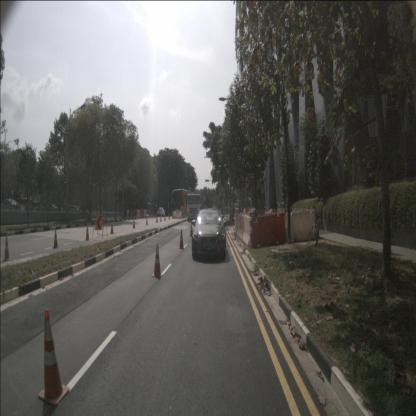movable_object-barrier: (250, 212, 286, 249), (284, 210, 317, 242), (242, 214, 254, 247), (237, 213, 245, 240), (234, 212, 241, 236), (126, 209, 132, 218), (250, 208, 256, 216), (245, 207, 250, 215), (136, 209, 140, 218), (143, 209, 147, 217), (140, 210, 144, 218)
movable_object-trafficcone: (38, 308, 70, 408), (152, 241, 162, 278), (2, 233, 12, 261), (52, 228, 60, 249), (178, 229, 184, 250), (85, 223, 90, 241), (189, 222, 193, 236), (110, 220, 114, 234), (133, 219, 135, 228), (146, 216, 148, 225), (168, 214, 171, 220), (160, 214, 162, 222), (156, 215, 158, 222), (164, 214, 166, 220)
vehicle-bus-rigid: (171, 188, 196, 216)
vehicle-car: (191, 209, 227, 262), (0, 198, 20, 214), (25, 201, 44, 215), (42, 203, 60, 217), (61, 205, 81, 217), (156, 207, 166, 218)
vehicle-truck: (186, 192, 203, 224)
